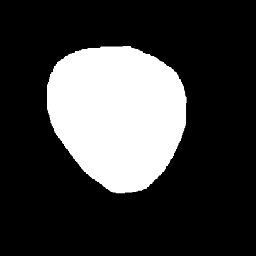mass: (57, 44, 178, 179)
